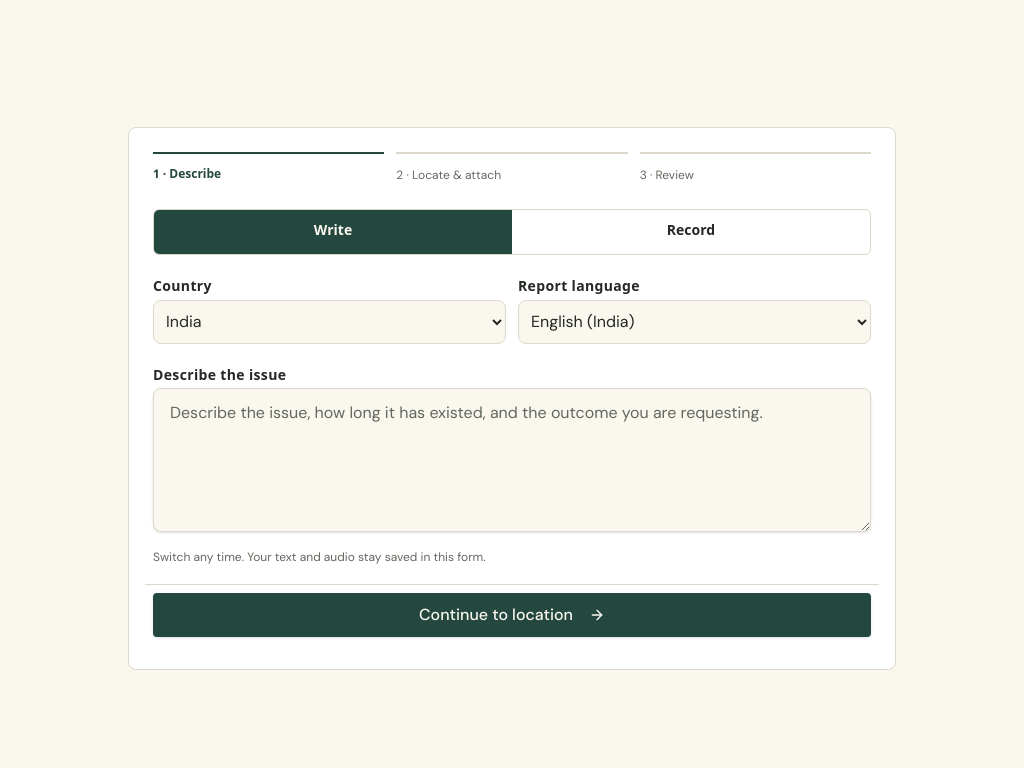
it: Citizen Portal accessibility › uses a three-step flow and country changes never create location
Expected: the text box labelled "Describe the issue" is shown, [153, 388, 871, 532]
Select "Brazil" in the dropdown labelled "Country" at (330, 322), box [153, 300, 506, 344]
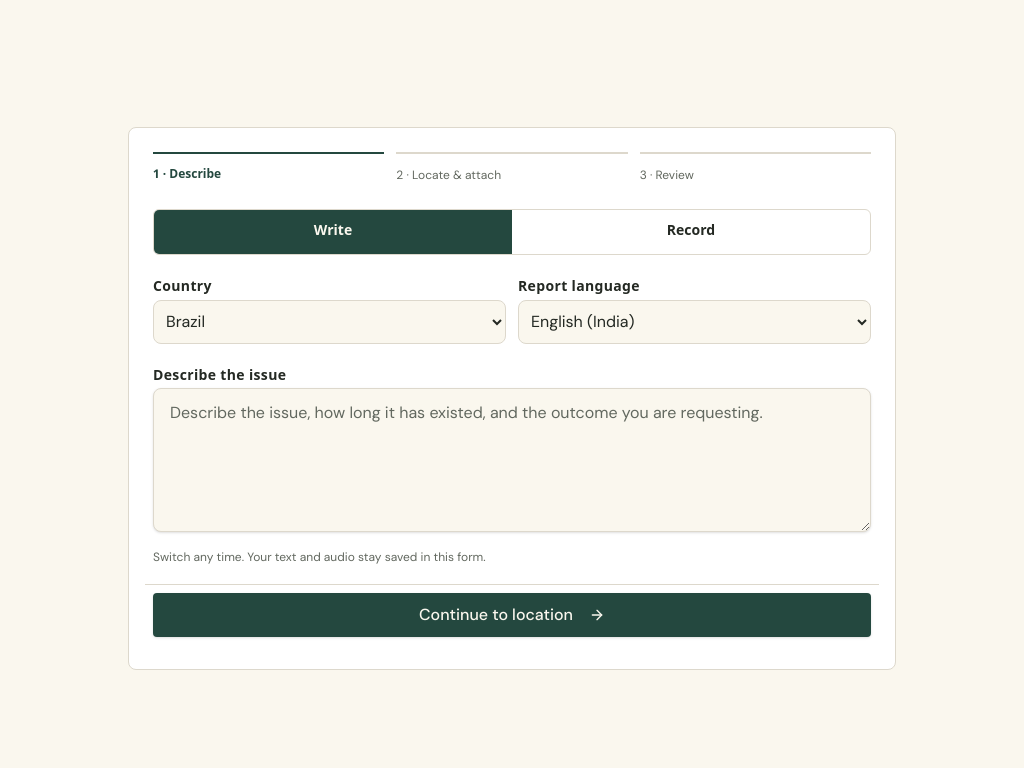
Replace the text in the text box labelled "Describe the issue" with "Blocked public drain" at (512, 460), box [153, 388, 871, 532]
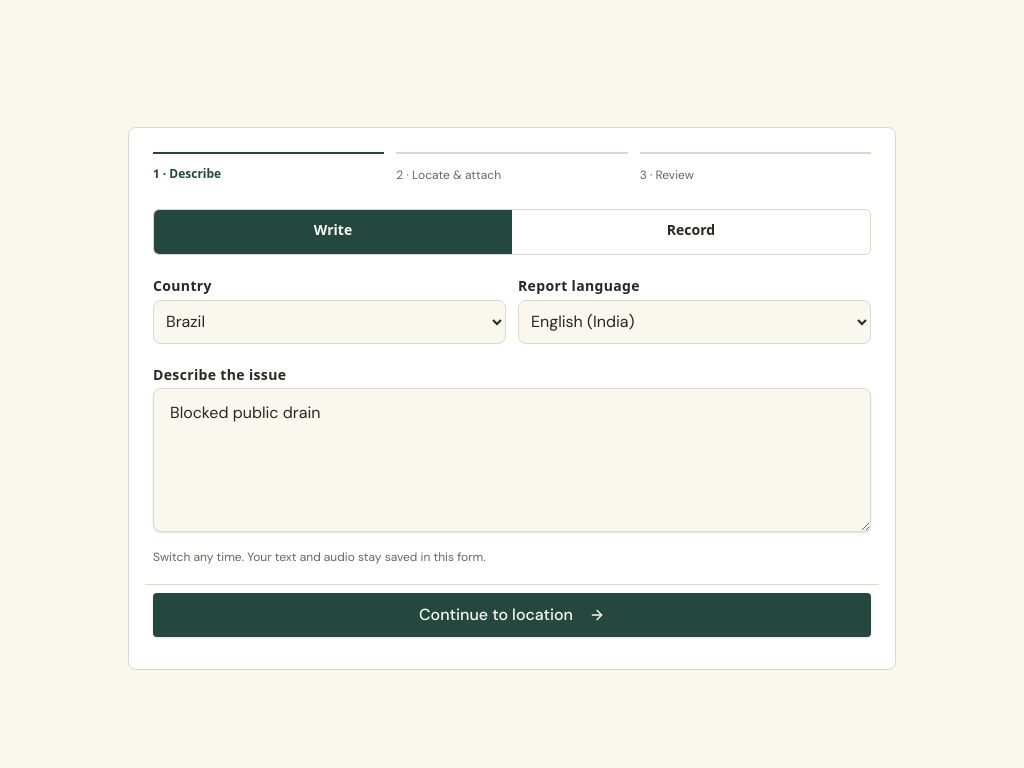
Click the button "Continue to location" at (512, 615), box [153, 593, 871, 637]
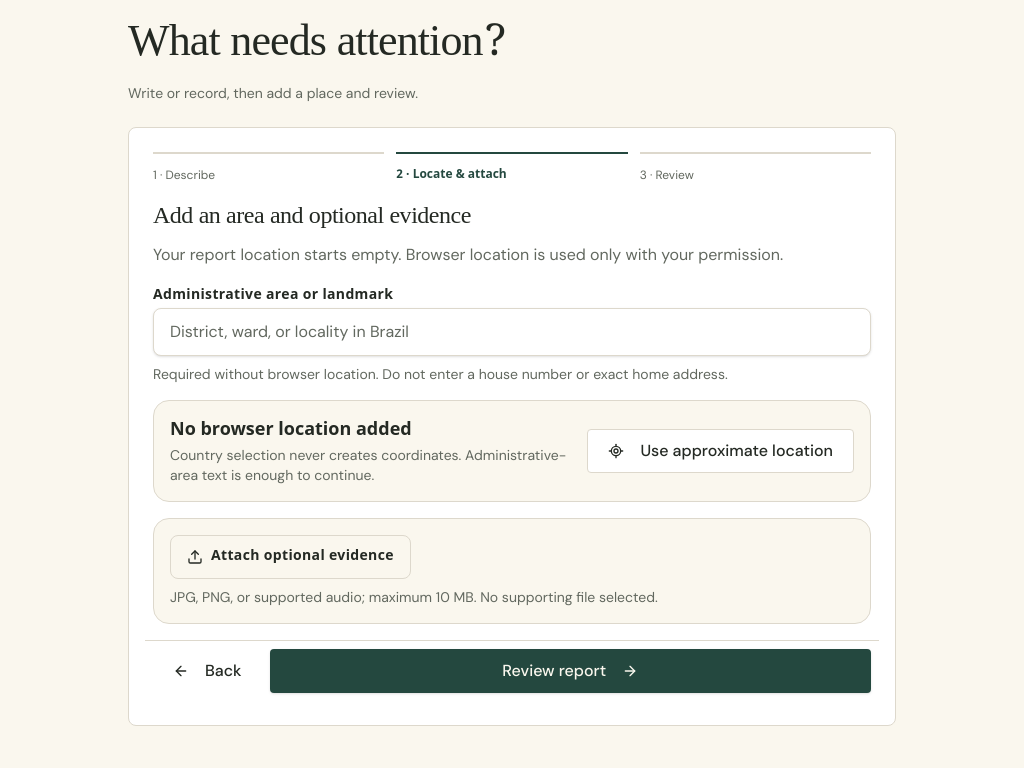
Expected: the text "No browser location added" is shown, [170, 419, 412, 442]
Expected: the text "Country selection never creates coordinates" is shown, [170, 446, 566, 484]
